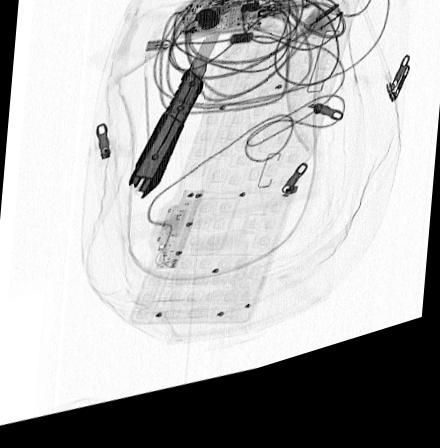Knife: (127, 47, 220, 210)
